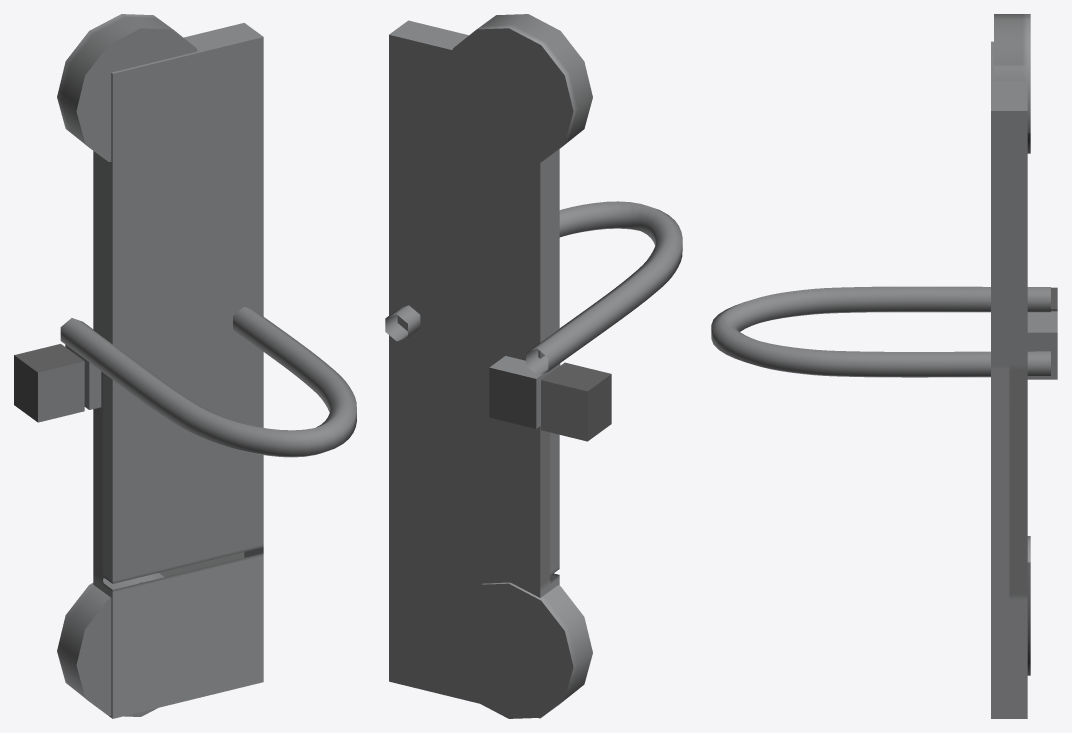
3 views of the same model, side by side, from view 1: azimuth 30°, elevation 25°; view 2: azimuth 150°, elevation 25°; view 3: azimuth 270°, elevation 25° (orthographic). The views are drawn at different scales.
Size of the model in its own units: 0.351 by 1.08 by 0.5219.
